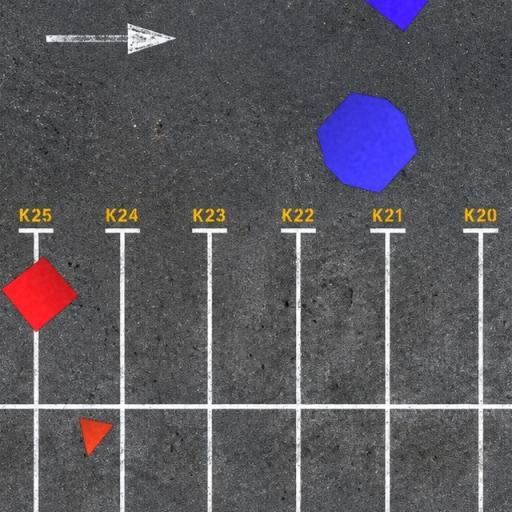RED_SQUARE: (1, 255, 80, 333)
